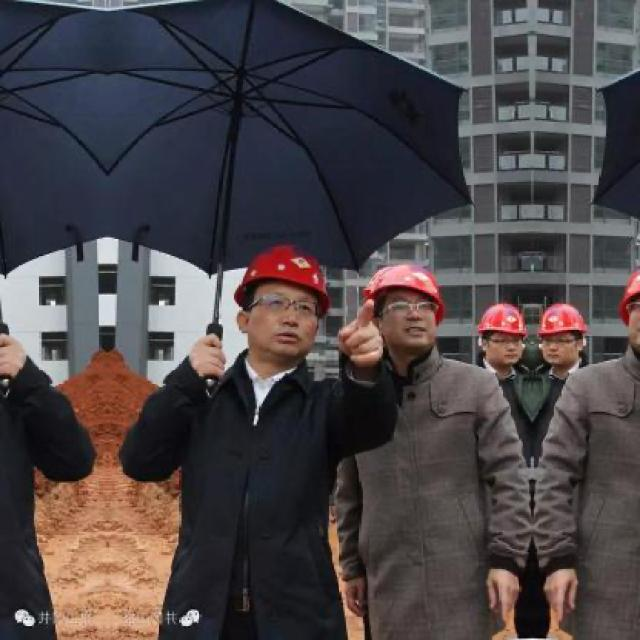con casco: (190, 246, 332, 370), (348, 255, 443, 377), (600, 258, 640, 416), (524, 297, 605, 372), (466, 303, 528, 373)
